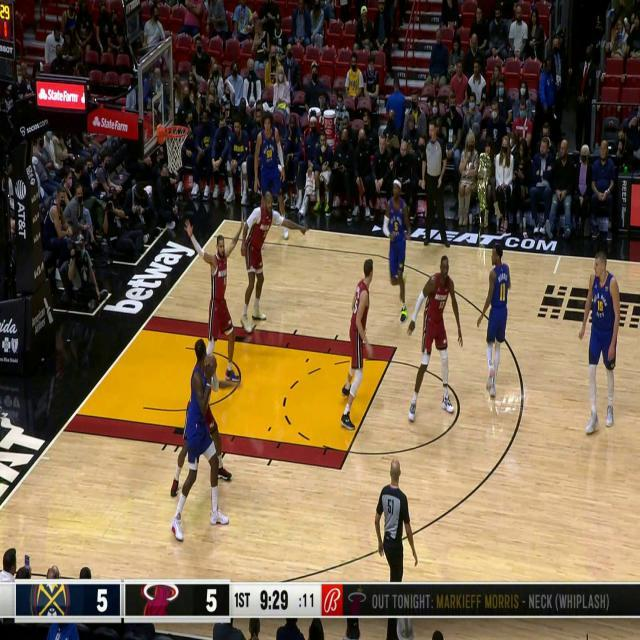rim: (204, 356, 218, 376)
